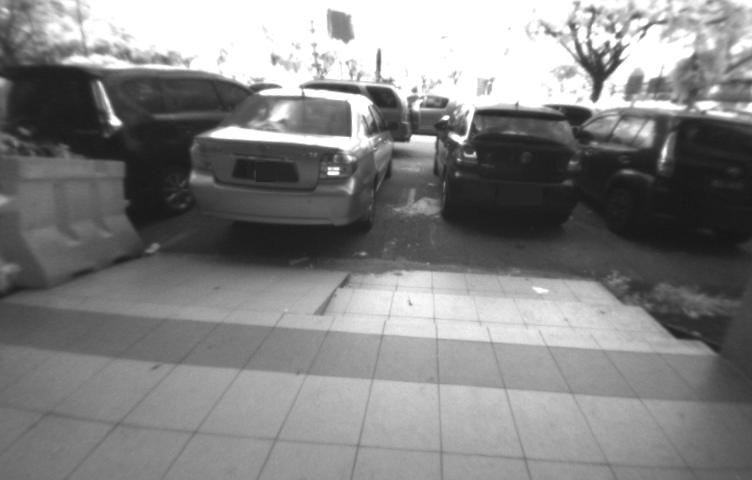down_steps: (315, 259, 725, 365)
mixed_gradient: (282, 252, 383, 335)
